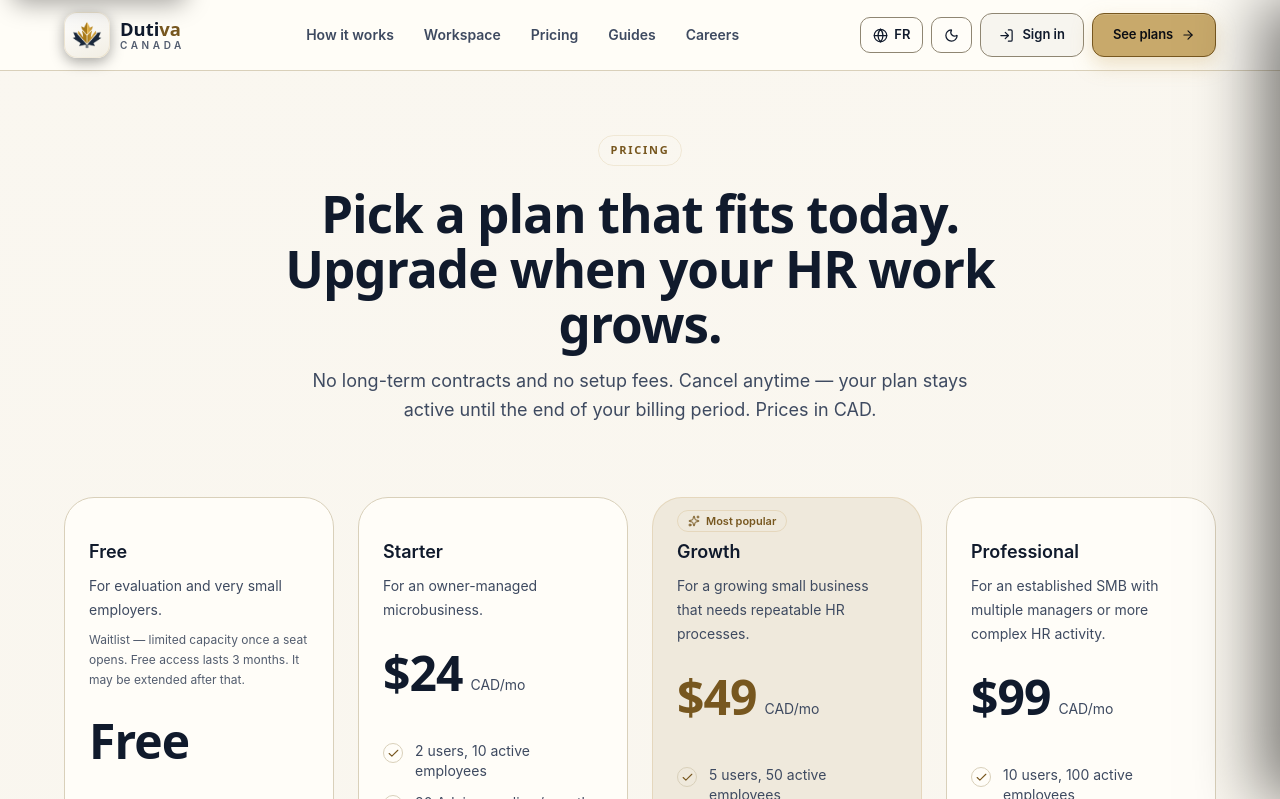
Test case: PricingPage › re-localizes to French via the header language toggle
This screenshot has width=1280, height=799.
Click the button with aria-label "Toggle language": [892, 35] box [860,17,923,53]
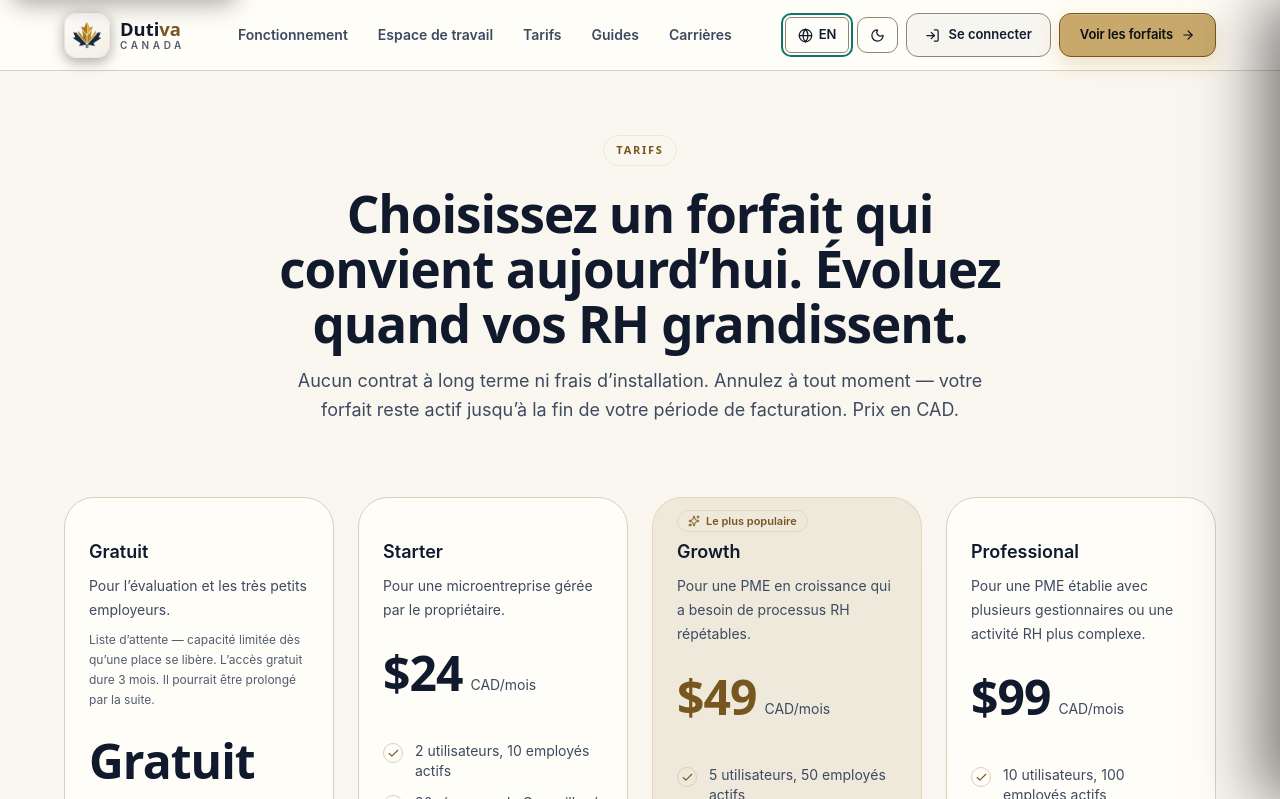
Expected: the heading named "Choisissez un forfait qui convient aujourd’hui. Évoluez quand vos RH grandissent." is shown, [244,186,1036,351]
Expected: the text "L’accès gratuit dure 3 mois. Il pourrait être prolongé par la suite." is shown, [89,632,302,707]
